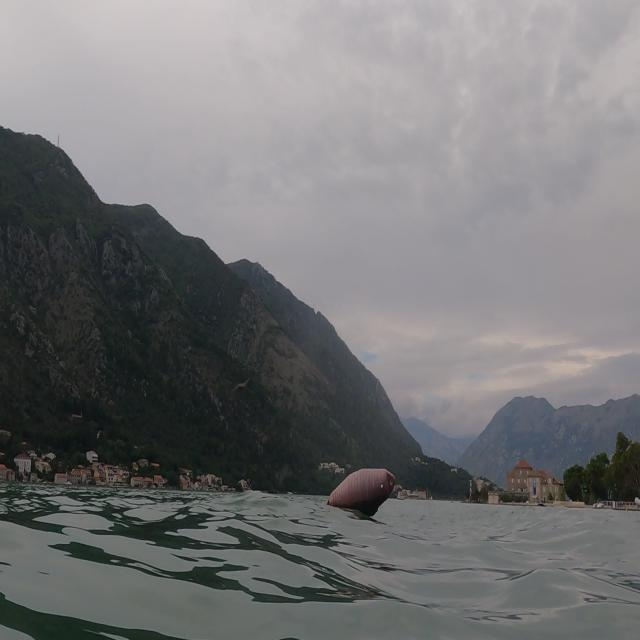buoy: (316, 457, 423, 521)
